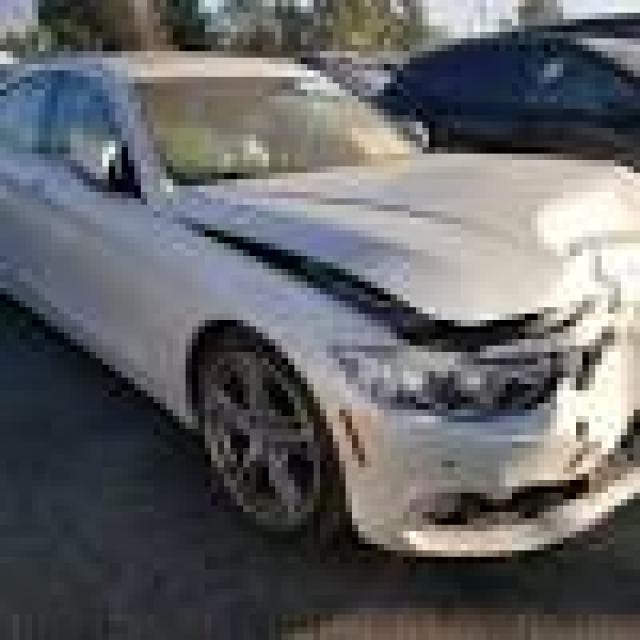moderate: (127, 117, 632, 511)
